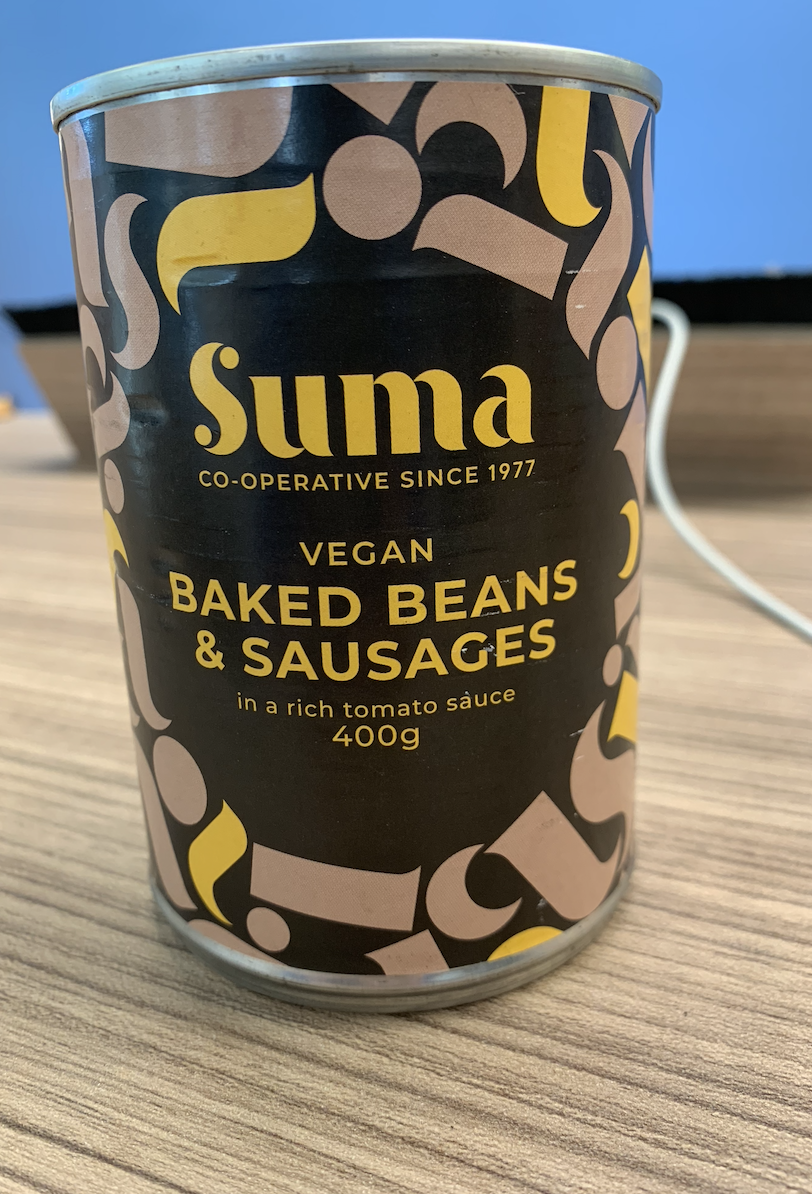Baked beans_450g: (112, 134, 645, 977)
